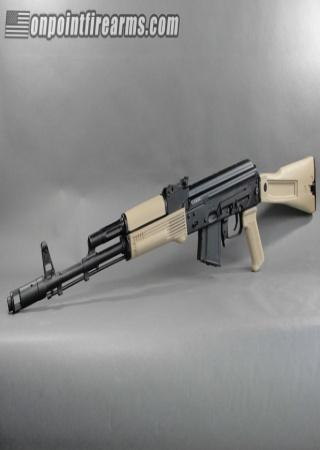weapon: (6, 156, 317, 316)
